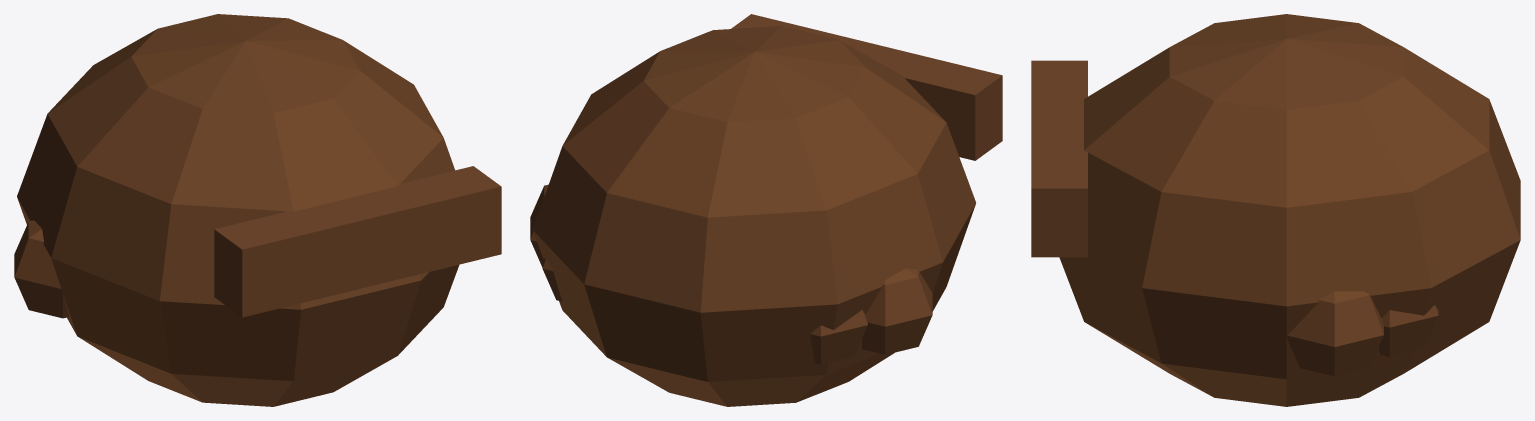
File: wig.glb
3 views of the same model, side by side, from view 1: azimuth 30°, elevation 25°; view 2: azimuth 150°, elevation 25°; view 3: azimuth 270°, elevation 25° (orthographic). The views are drawn at different scales.
Visible parts, largest first — view 1: cap_wig_hair, fringe_wig_hair, curls_wig_hair; view 2: cap_wig_hair, fringe_wig_hair, curls_wig_hair; view 3: cap_wig_hair, fringe_wig_hair, curls_wig_hair.
Part boxes in pixels (<box>): cap_wig_hair: <box>17,14,459,406</box>; fringe_wig_hair: <box>214,166,501,317</box>; curls_wig_hair: <box>14,220,69,318</box>; cap_wig_hair: <box>533,26,975,406</box>; fringe_wig_hair: <box>731,14,1002,160</box>; curls_wig_hair: <box>530,184,932,364</box>; cap_wig_hair: <box>1059,14,1520,406</box>; fringe_wig_hair: <box>1031,60,1087,257</box>; curls_wig_hair: <box>1287,291,1438,376</box>.
Size of the model in its own units: 0.256 by 0.2 by 0.2586.
